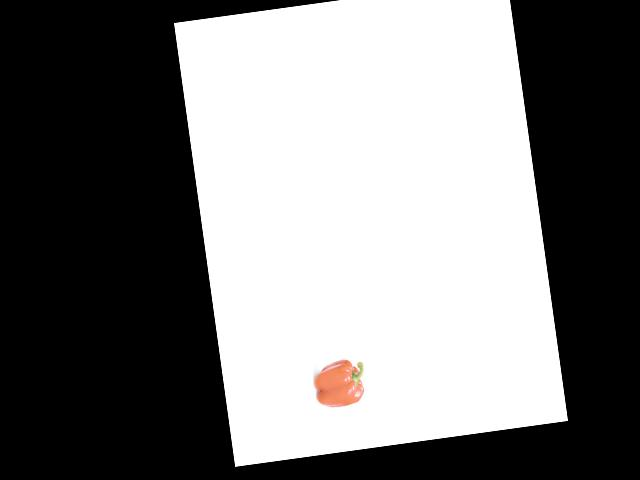bell_pepper: (310, 356, 369, 411)
